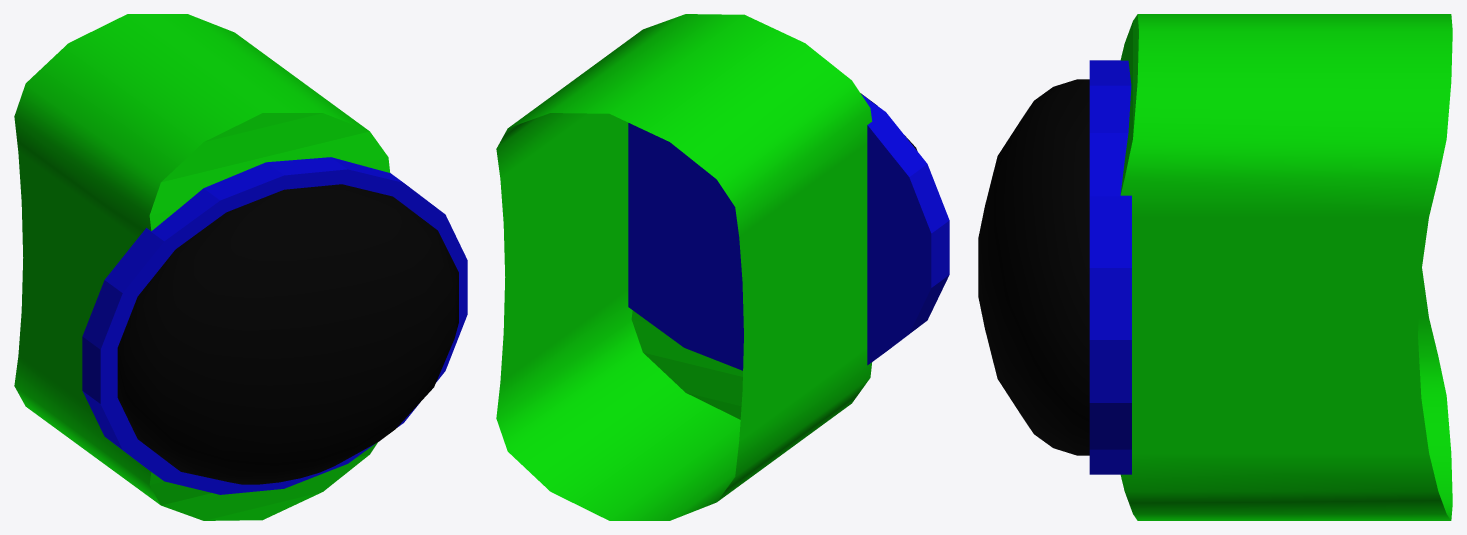
File: CameraBot_LVL3.FBX
3 renders of one model, left to right at view 1: azimuth 30°, elevation 25°; view 2: azimuth 150°, elevation 25°; view 3: azimuth 270°, elevation 25°, orthographic. The views are drawn at different scales.
Visible parts, largest first — view 1: CameraBot_LVL3; view 2: CameraBot_LVL3; view 3: CameraBot_LVL3.
Part boxes in pixels (box(x1,y1,x2,y2)): CameraBot_LVL3: box(14, 14, 467, 520); CameraBot_LVL3: box(496, 14, 949, 520); CameraBot_LVL3: box(978, 14, 1452, 520).
Bounding box in the file's own units: 26.96 × 28.59 × 26.03.
